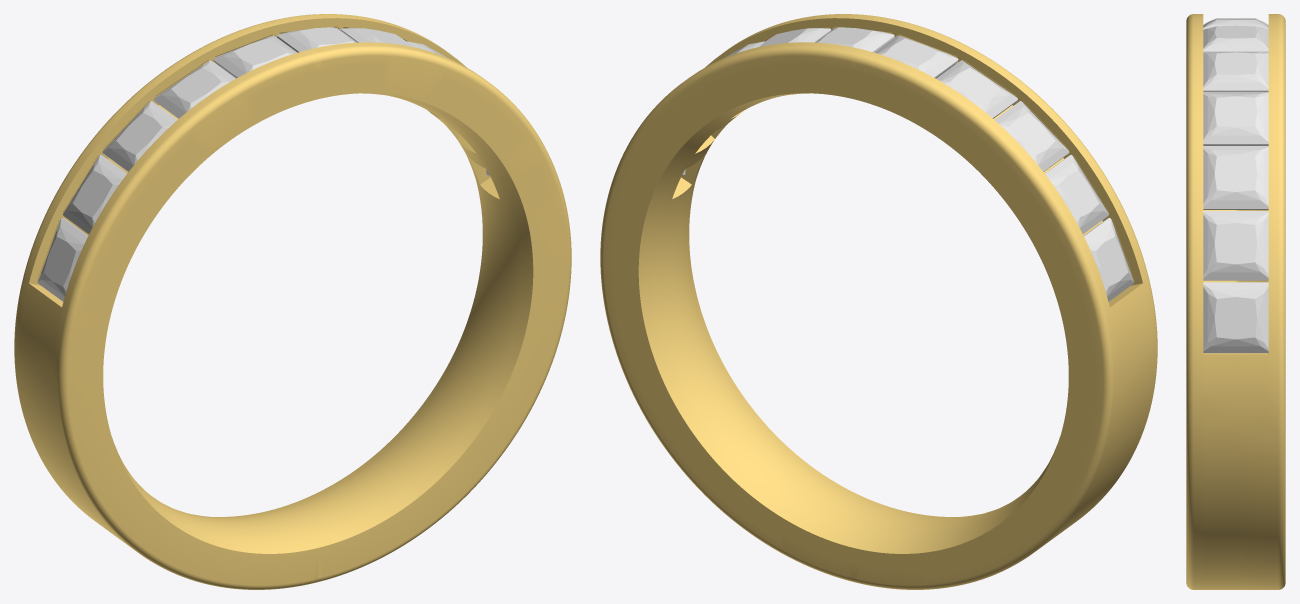
The model's file is Dulce_YG_blender.glb.
3 renders of one model, left to right at view 1: azimuth 30°, elevation 25°; view 2: azimuth 150°, elevation 25°; view 3: azimuth 270°, elevation 25°, orthographic.
Parts seen in each view (by area): view 1: Dulce YG for 3d model, Dulce dia for 3d model.003, Dulce dia for 3d model.002, Dulce dia for 3d model.004, Dulce dia for 3d model.001, Dulce dia for 3d model, Dulce dia for 3d model.009, Dulce dia for 3d model.008; view 2: Dulce YG for 3d model, Dulce dia for 3d model.003, Dulce dia for 3d model.002, Dulce dia for 3d model.004, Dulce dia for 3d model.001, Dulce dia for 3d model, Dulce dia for 3d model.009, Dulce dia for 3d model.008; view 3: Dulce YG for 3d model, Dulce dia for 3d model.005, Dulce dia for 3d model.006, Dulce dia for 3d model.007, Dulce dia for 3d model.008, Dulce dia for 3d model.009, Dulce dia for 3d model, Dulce dia for 3d model.001.
Part boxes in pixels (bbox=[...]): Dulce YG for 3d model: bbox=[14, 14, 571, 589]; Dulce dia for 3d model.003: bbox=[63, 154, 126, 233]; Dulce dia for 3d model.002: bbox=[102, 101, 177, 171]; Dulce dia for 3d model.004: bbox=[38, 218, 87, 301]; Dulce dia for 3d model.001: bbox=[154, 60, 235, 118]; Dulce dia for 3d model: bbox=[213, 35, 296, 78]; Dulce dia for 3d model.009: bbox=[277, 27, 356, 52]; Dulce dia for 3d model.008: bbox=[340, 28, 412, 46]; Dulce YG for 3d model: bbox=[600, 14, 1157, 589]; Dulce dia for 3d model.003: bbox=[1045, 154, 1108, 233]; Dulce dia for 3d model.002: bbox=[994, 101, 1069, 171]; Dulce dia for 3d model.004: bbox=[1084, 218, 1133, 301]; Dulce dia for 3d model.001: bbox=[936, 60, 1017, 118]; Dulce dia for 3d model: bbox=[875, 35, 958, 78]; Dulce dia for 3d model.009: bbox=[815, 27, 894, 52]; Dulce dia for 3d model.008: bbox=[759, 28, 831, 46]; Dulce YG for 3d model: bbox=[1186, 14, 1285, 589]; Dulce dia for 3d model.005: bbox=[1203, 282, 1268, 353]; Dulce dia for 3d model.006: bbox=[1203, 211, 1268, 280]; Dulce dia for 3d model.007: bbox=[1203, 146, 1268, 209]; Dulce dia for 3d model.008: bbox=[1203, 92, 1268, 145]; Dulce dia for 3d model.009: bbox=[1203, 52, 1268, 91]; Dulce dia for 3d model: bbox=[1203, 25, 1268, 52]; Dulce dia for 3d model.001: bbox=[1203, 18, 1268, 29].
Size of the model in its own units: 23.45 by 23.14 by 4.
